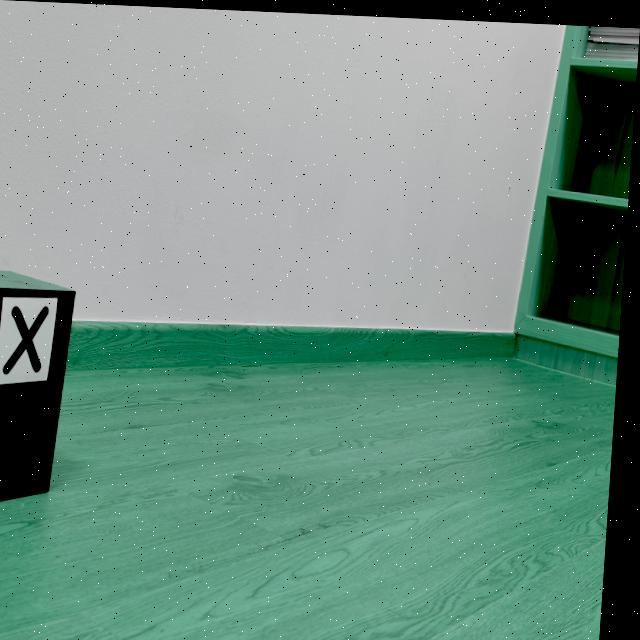X: (8, 306, 53, 374)
